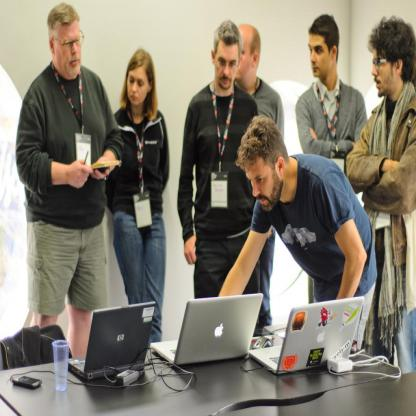board: (249, 297, 365, 374), (68, 302, 155, 381), (170, 300, 261, 373), (54, 340, 69, 394)
